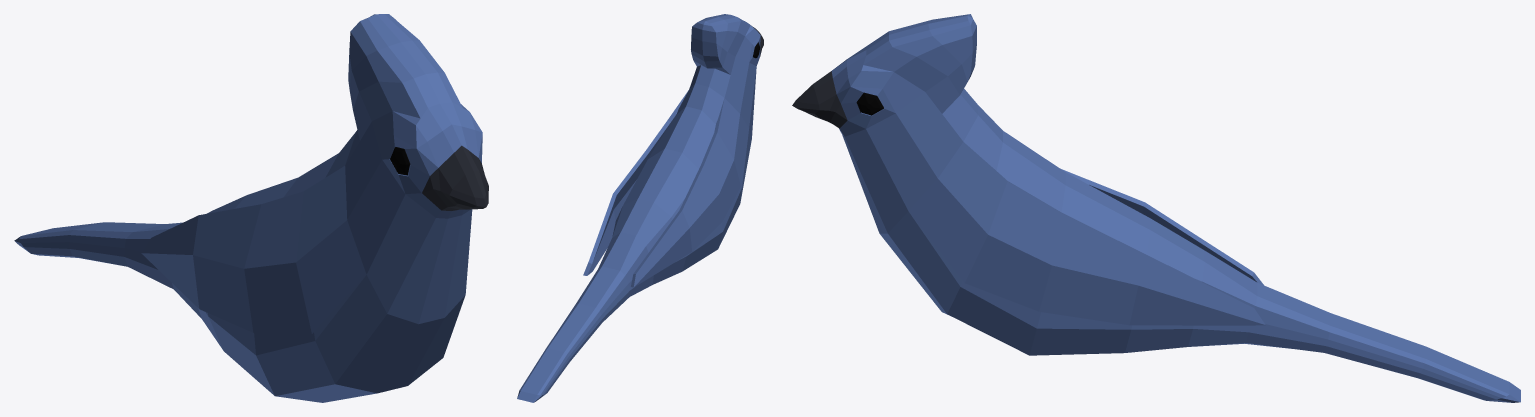
The model's file is Bluejay.fbx.
3 renders of one model, left to right at view 1: azimuth 30°, elevation 25°; view 2: azimuth 150°, elevation 25°; view 3: azimuth 270°, elevation 25°, orthographic. The views are drawn at different scales.
Visible parts, largest first — view 1: BlueJayBody, BlueJayWings, BlueJayFluff; view 2: BlueJayBody, BlueJayWings, BlueJayFluff; view 3: BlueJayBody, BlueJayWings, BlueJayFluff.
Part boxes in pixels (x1=…): BlueJayBody: x1=14, y1=102, x2=488, y2=402; BlueJayWings: x1=141, y1=166, x2=366, y2=334; BlueJayFluff: x1=348, y1=14, x2=462, y2=140; BlueJayBody: x1=517, y1=21, x2=763, y2=402; BlueJayWings: x1=583, y1=90, x2=748, y2=287; BlueJayFluff: x1=691, y1=14, x2=750, y2=74; BlueJayBody: x1=792, y1=46, x2=1520, y2=402; BlueJayWings: x1=908, y1=142, x2=1265, y2=325; BlueJayFluff: x1=863, y1=14, x2=976, y2=113.
Size of the model in its own units: 6.99 by 20.05 by 34.75.
